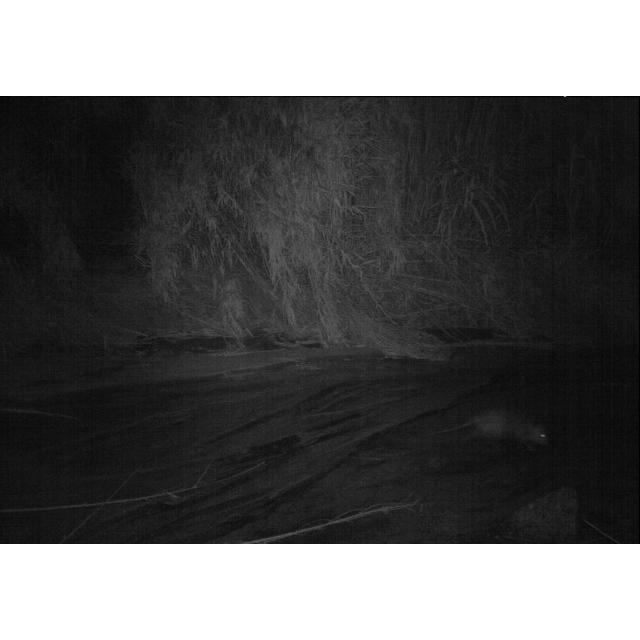animals: (429, 408, 553, 452)
